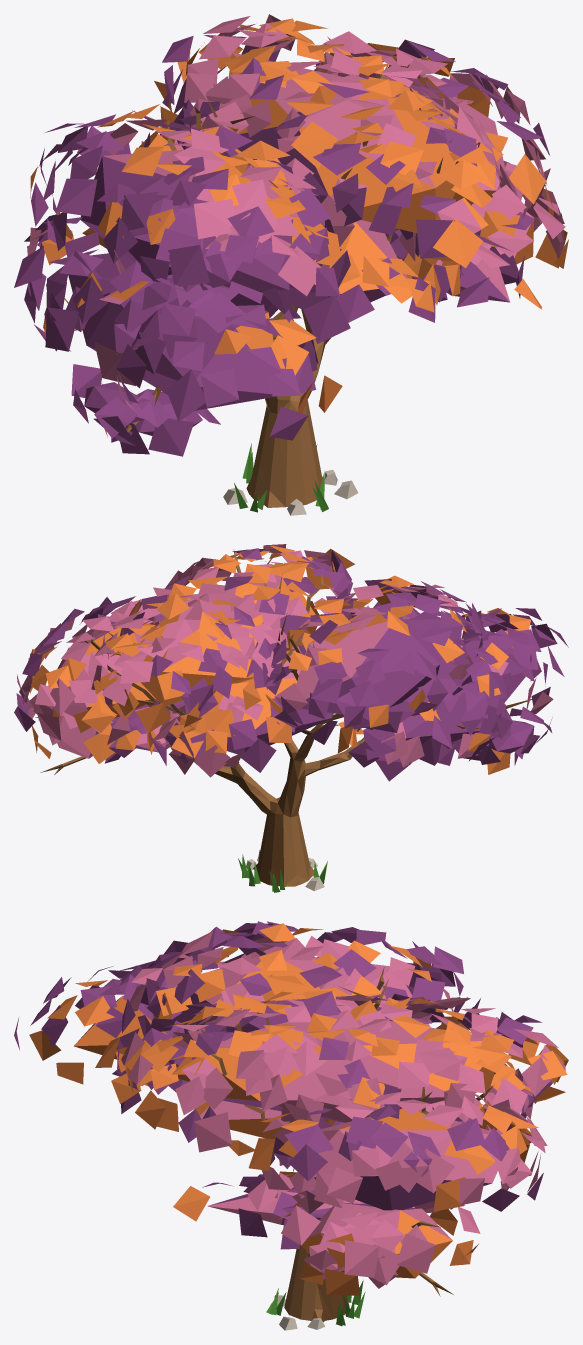
The model's file is jacaranda_var_autumn.glb.
3 renders of one model, top to bottom at view 1: azimuth 30°, elevation 25°; view 2: azimuth 150°, elevation 25°; view 3: azimuth 270°, elevation 25°, orthographic. The views are drawn at different scales.
Visible parts, largest first — view 1: jacaranda_var_autumn; view 2: jacaranda_var_autumn; view 3: jacaranda_var_autumn.
Boxes of the visible parts, <box> form: jacaranda_var_autumn: <box>14,14,568,515</box>; jacaranda_var_autumn: <box>14,544,568,892</box>; jacaranda_var_autumn: <box>14,921,568,1330</box>.
Bounding box in the file's own units: 9.27 × 6.13 × 9.19.
